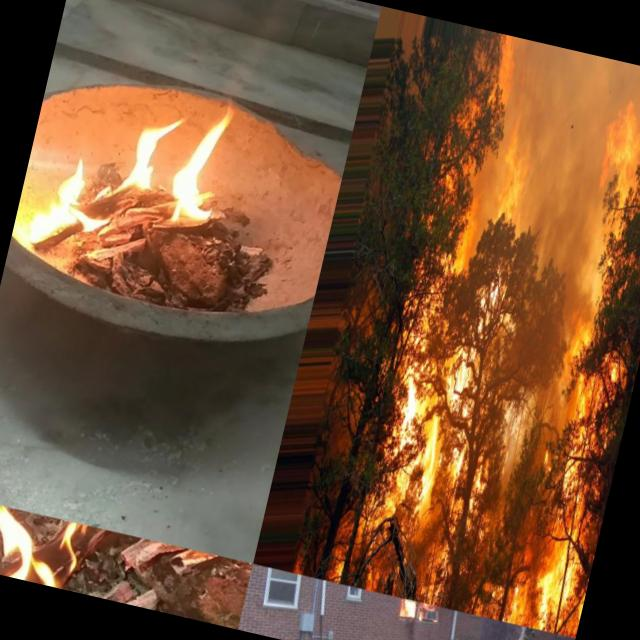fire: (328, 23, 640, 637), (17, 71, 245, 293), (0, 501, 242, 627), (393, 598, 437, 628)
